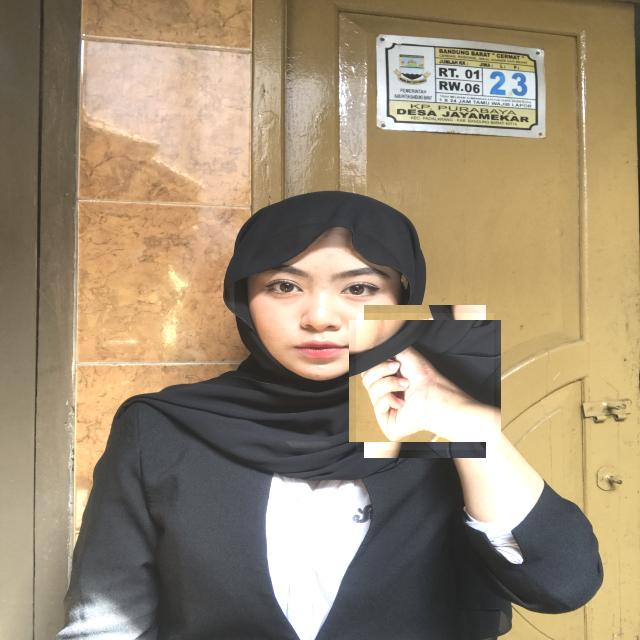ibu: (356, 313, 494, 450)
